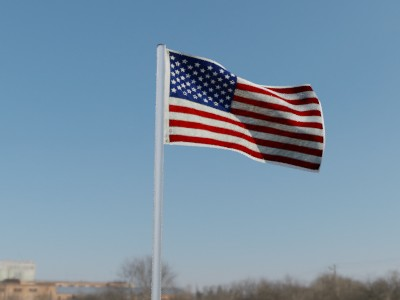America flag: (163, 44, 328, 173)
